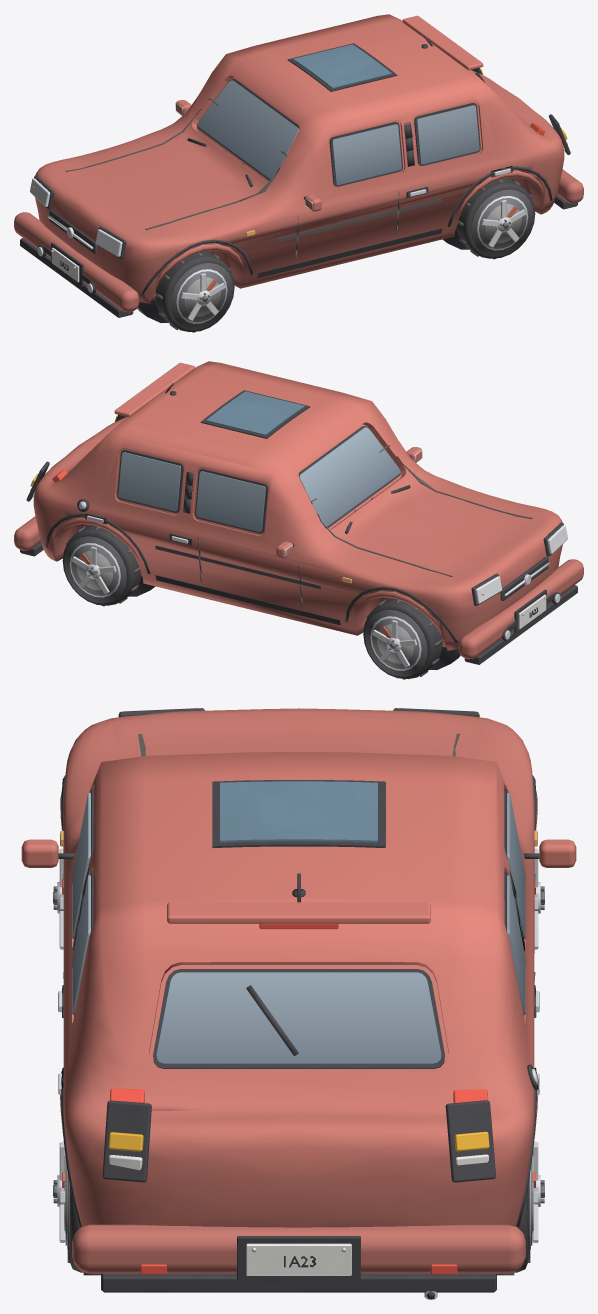
File: Rig_Car.fbx
3 views of the same model, one above another, from view 1: azimuth 30°, elevation 25°; view 2: azimuth 150°, elevation 25°; view 3: azimuth 270°, elevation 25° (orthographic). The views are drawn at different scales.
Parts seen in each view (by area): view 1: Transito_Car__Body, Transito_Car__Wheel_F_L, Transito_Car__Wheel_R_L; view 2: Transito_Car__Body, Transito_Car__Wheel_F_R, Transito_Car__Wheel_R_R; view 3: Transito_Car__Body, Transito_Car__Wheel_R_L, Transito_Car__Wheel_R_R.
Part boxes in pixels (bbox=[...]): Transito_Car__Body: bbox=[14, 14, 583, 323]; Transito_Car__Wheel_F_L: bbox=[155, 251, 234, 332]; Transito_Car__Wheel_R_L: bbox=[456, 178, 535, 259]; Transito_Car__Body: bbox=[14, 361, 583, 670]; Transito_Car__Wheel_F_R: bbox=[363, 598, 442, 679]; Transito_Car__Wheel_R_R: bbox=[62, 525, 141, 606]; Transito_Car__Body: bbox=[21, 708, 576, 1299]; Transito_Car__Wheel_R_L: bbox=[53, 1142, 100, 1275]; Transito_Car__Wheel_R_R: bbox=[497, 1142, 544, 1275].
Bounding box in the file's own units: 4.13 × 1.62 × 2.1.
